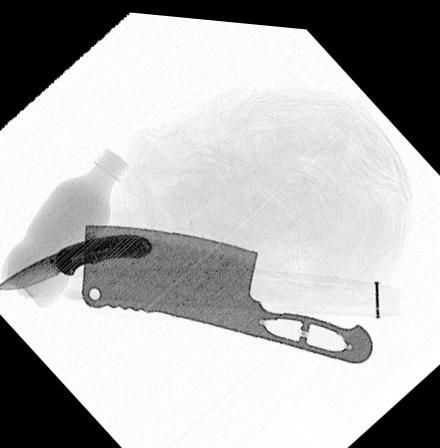Knife: (79, 222, 372, 356), (0, 229, 153, 289)
